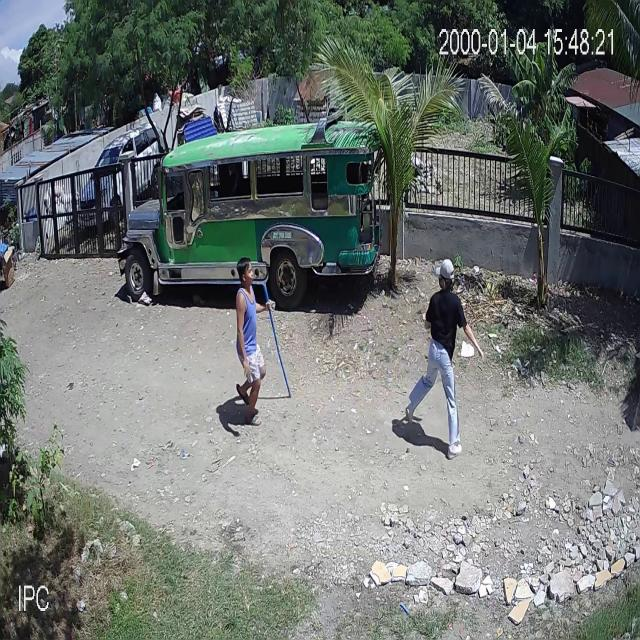running: (406, 258, 484, 457), (234, 259, 291, 425)
